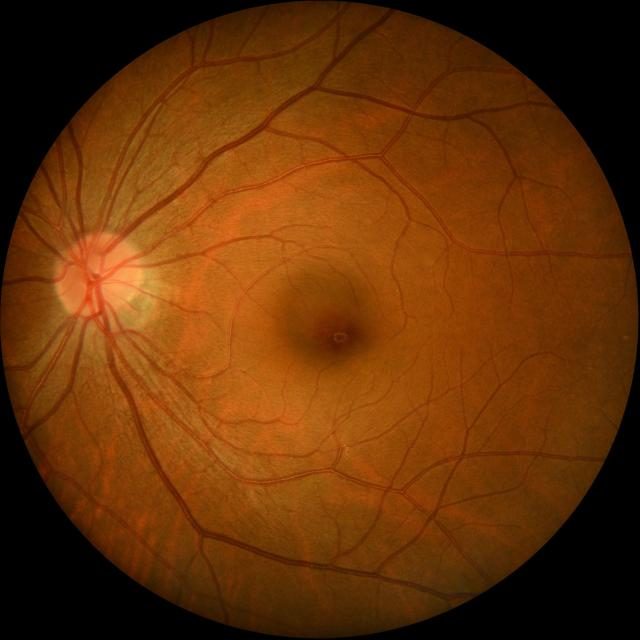OC: (84, 264, 108, 290)
OD: (57, 232, 140, 314)
